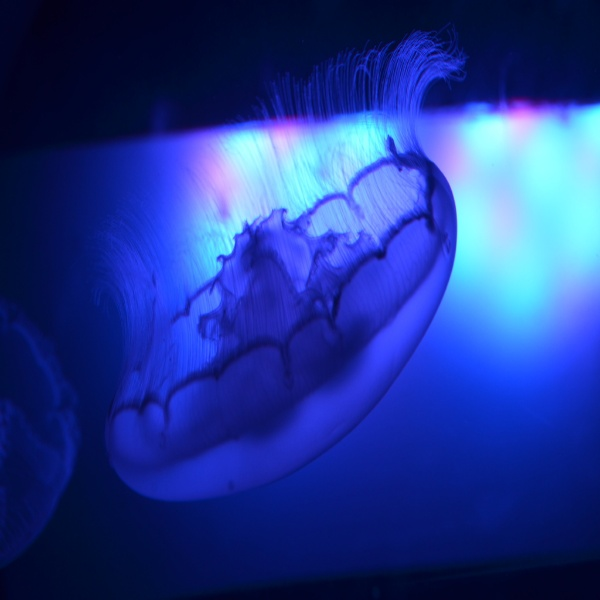Jellyfish: (63, 4, 466, 520), (0, 303, 80, 571)
